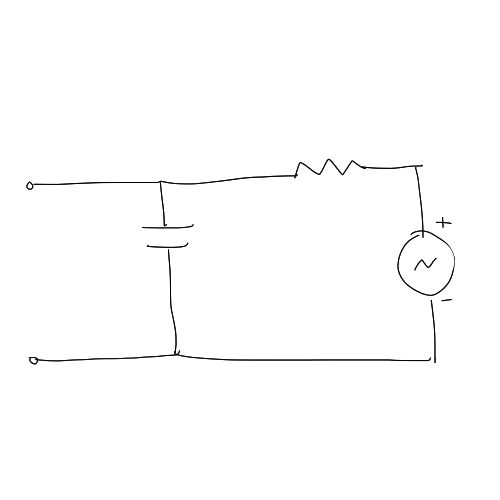acvs: (392, 217, 461, 304)
cap: (137, 219, 199, 250)
probe: (24, 350, 42, 368), (23, 177, 37, 194)
res: (290, 155, 368, 184)
